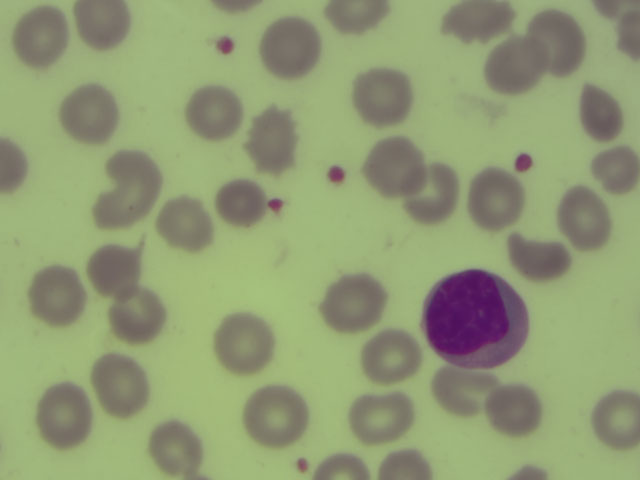Platelets: (210, 30, 240, 63), (324, 159, 349, 189), (513, 149, 536, 177), (267, 191, 290, 216), (294, 453, 311, 475)
RBC: (102, 156, 156, 223), (403, 163, 461, 224), (213, 315, 273, 372), (591, 385, 640, 454), (325, 276, 382, 331), (509, 230, 566, 285), (555, 190, 612, 245), (570, 84, 627, 139), (530, 11, 587, 66), (486, 41, 543, 96), (487, 384, 544, 439), (435, 365, 492, 420), (363, 327, 420, 382), (353, 390, 410, 445), (211, 176, 268, 231), (247, 388, 304, 443), (149, 422, 206, 477), (36, 388, 93, 443), (93, 358, 150, 413), (107, 289, 164, 344), (86, 241, 143, 296), (156, 194, 213, 249), (26, 269, 83, 324), (466, 171, 523, 226), (369, 136, 426, 191), (354, 69, 411, 124), (243, 112, 300, 167), (260, 19, 317, 74), (186, 83, 243, 138), (59, 86, 116, 141), (10, 9, 67, 64), (74, 1, 131, 49), (592, 143, 640, 194), (442, 1, 513, 35), (325, 1, 396, 34), (376, 447, 439, 480), (613, 1, 640, 66), (1, 134, 28, 199), (314, 451, 370, 480)
WBC: (419, 265, 520, 363)
